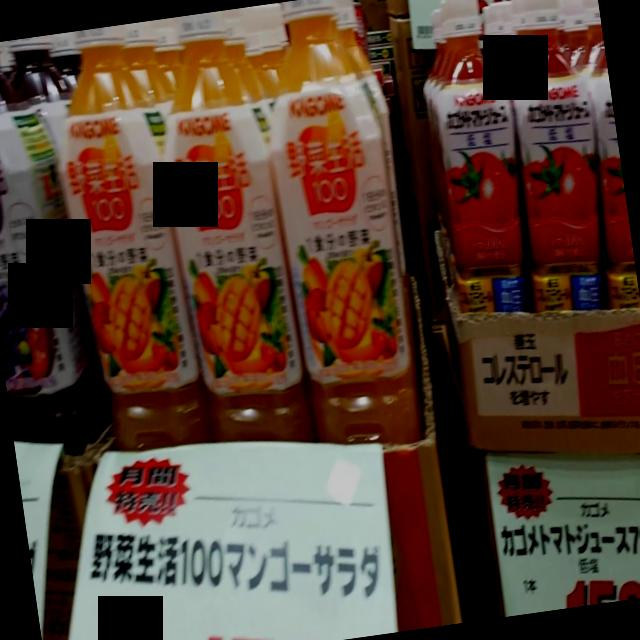juice: (272, 0, 424, 446), (60, 25, 213, 452), (167, 11, 316, 445), (0, 66, 108, 450), (434, 0, 531, 321), (512, 0, 607, 312)
